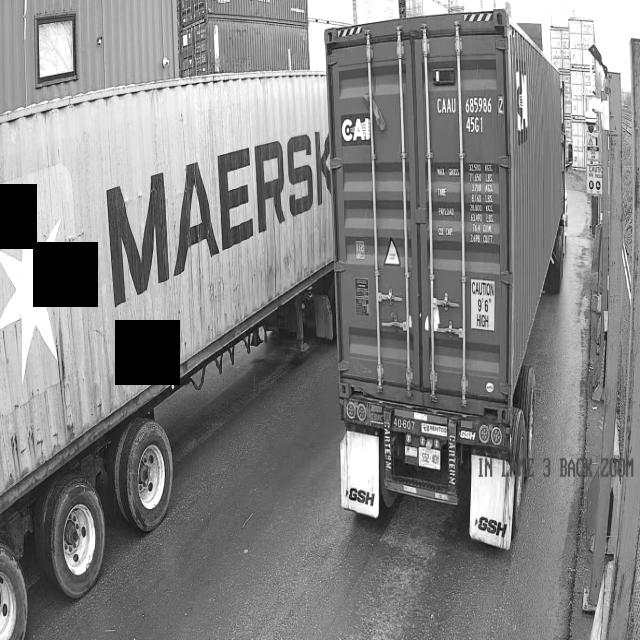container_company_logo: (340, 111, 373, 145)
container_number: (436, 95, 504, 141)
license_plate: (413, 441, 444, 468)
other_container_info: (435, 163, 502, 258)
truck_with_container: (0, 72, 332, 640), (326, 6, 566, 548)
